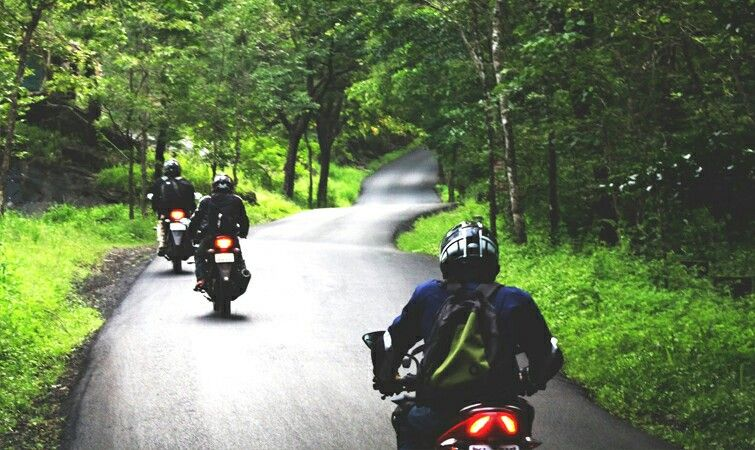helmet: (430, 214, 512, 281), (198, 168, 235, 204), (159, 155, 186, 186)
